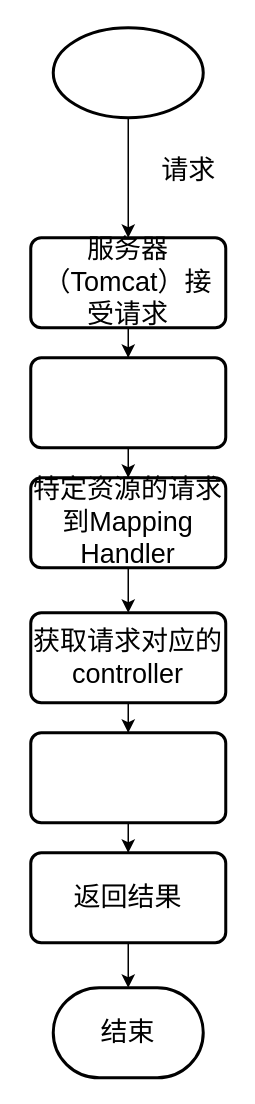
Some shapes in this 255 by 1104 pixel diagram are drawn without their labels. Each missing label, with the centre of its shape:
"DispatchServelet 分发请求" goes at (x=127, y=402).
"将参数传递给制定方法" goes at (x=127, y=777).
"开始" goes at (x=127, y=72).
